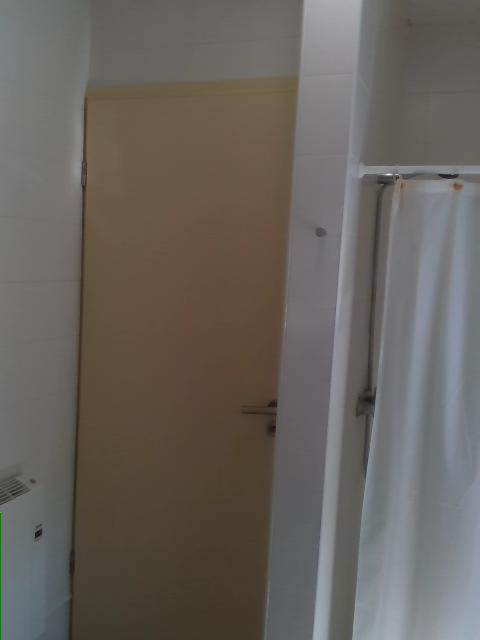door: (69, 75, 300, 635)
